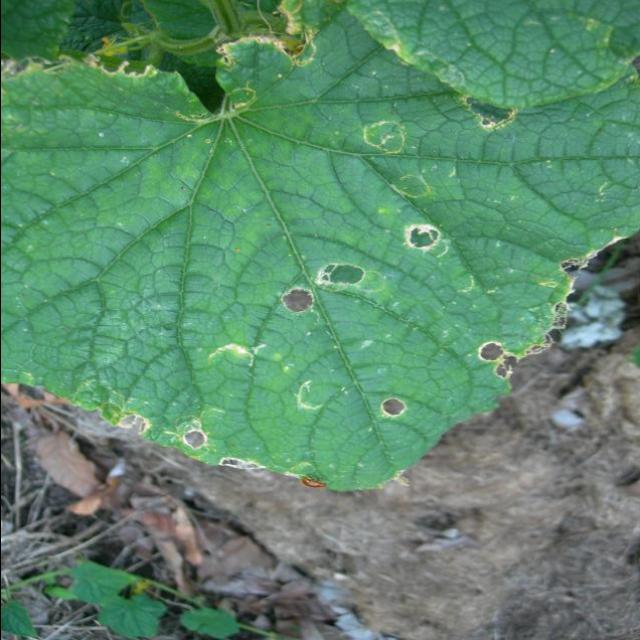Pumpkin Beetle: (253, 256, 371, 318), (340, 104, 428, 162), (452, 82, 528, 136), (351, 166, 439, 203), (470, 336, 532, 388), (174, 412, 234, 456), (400, 211, 448, 263), (366, 384, 420, 429), (284, 464, 336, 496)
